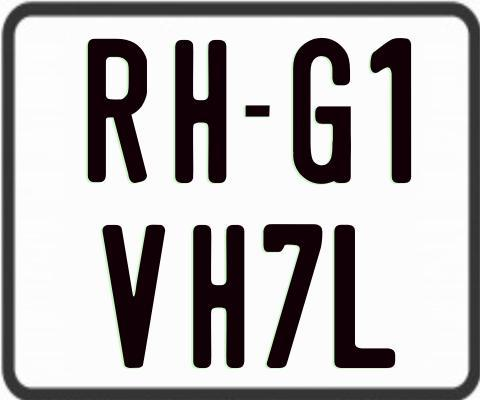1: (368, 37, 414, 186)
7: (260, 224, 325, 372)
G: (292, 36, 350, 186)
H: (175, 38, 232, 182), (193, 222, 247, 371)
L: (332, 223, 394, 367)
R: (88, 38, 148, 184)
V: (100, 222, 166, 365)
